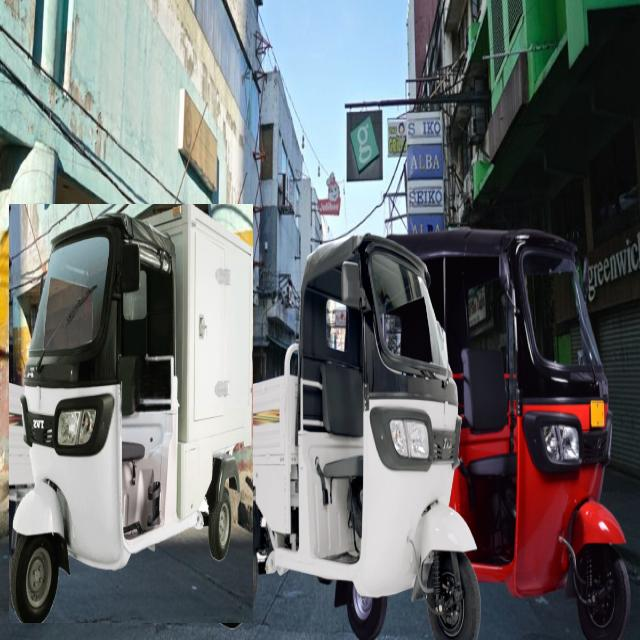autorickshaw: (10, 205, 253, 623), (231, 235, 480, 638), (405, 228, 629, 638)
